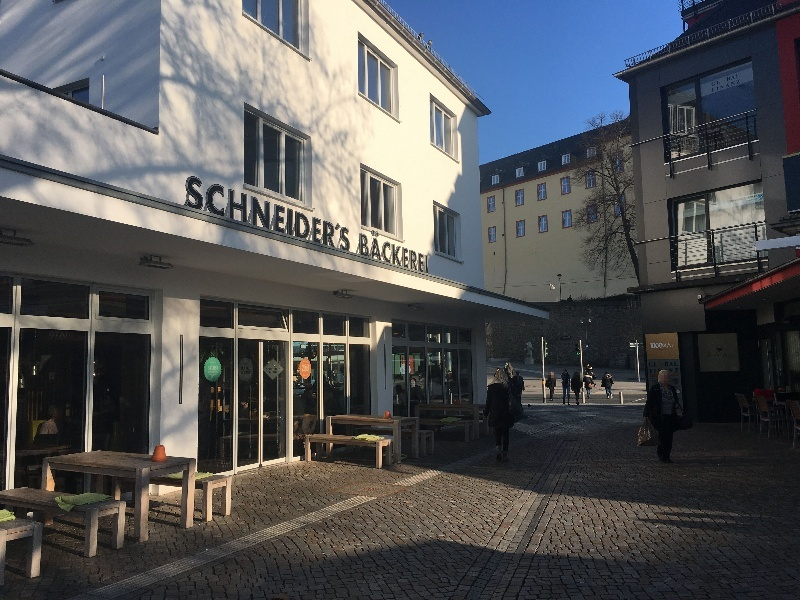text: (193, 174, 208, 252), (209, 174, 224, 252), (225, 174, 240, 252), (241, 174, 256, 252), (257, 174, 272, 252), (273, 174, 288, 252), (289, 174, 304, 252), (305, 174, 320, 252), (321, 174, 336, 252), (337, 174, 350, 252), (369, 224, 384, 274), (385, 224, 400, 274), (401, 224, 416, 274), (417, 224, 428, 274), (359, 224, 368, 274), (187, 174, 192, 252), (721, 79, 736, 93), (737, 195, 752, 203), (712, 79, 720, 93), (657, 342, 672, 349), (708, 352, 720, 360), (657, 368, 672, 374), (721, 352, 732, 360), (727, 74, 736, 82), (402, 368, 416, 373), (711, 80, 720, 87), (737, 79, 741, 93), (209, 366, 219, 371), (730, 195, 736, 203), (241, 367, 256, 370), (241, 371, 256, 374), (305, 366, 320, 369), (650, 342, 656, 349), (665, 362, 672, 368), (244, 363, 256, 366), (673, 362, 679, 368), (650, 368, 656, 374), (649, 362, 656, 367), (753, 195, 757, 203), (209, 371, 219, 374), (673, 368, 678, 374), (210, 362, 224, 364), (279, 368, 288, 371), (737, 74, 740, 82), (267, 368, 272, 371), (273, 368, 278, 371), (673, 342, 675, 349), (302, 366, 304, 372), (305, 370, 310, 372), (273, 372, 277, 374), (657, 362, 658, 367), (270, 372, 272, 374)
